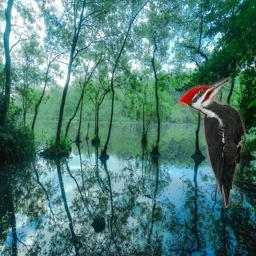Woodpecker: (178, 78, 245, 208)
